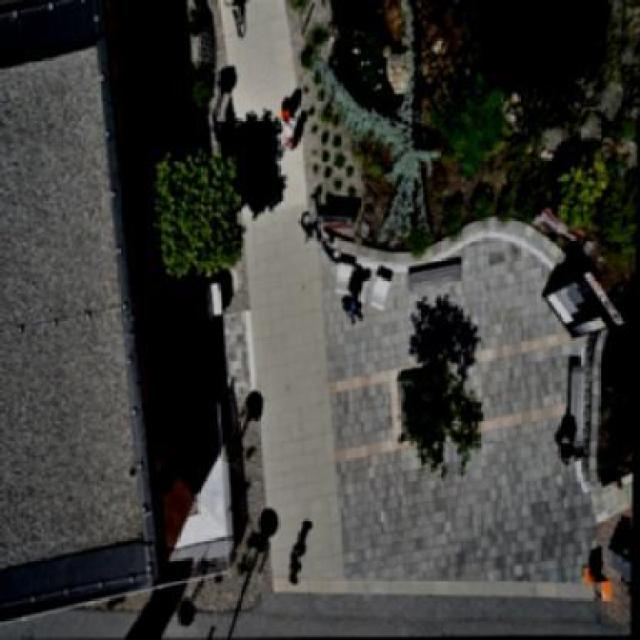Person: (280, 544, 311, 594), (339, 288, 370, 327), (274, 110, 309, 144), (273, 91, 298, 118)
